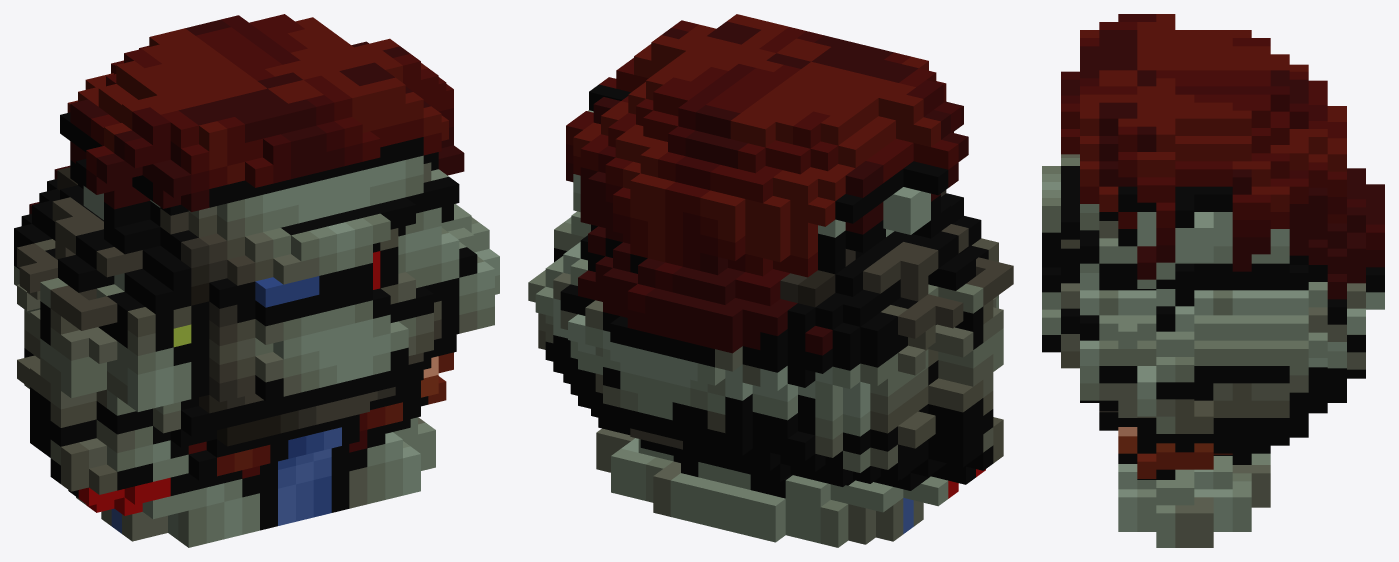
File: Icon_739_02.obj
3 renders of one model, left to right at view 1: azimuth 30°, elevation 25°; view 2: azimuth 150°, elevation 25°; view 3: azimuth 270°, elevation 25°, orthographic. The views are drawn at different scales.
Size of the model in its own units: 2.4 by 2.3 by 1.8.
Materials: 1 (1 with a texture image).
